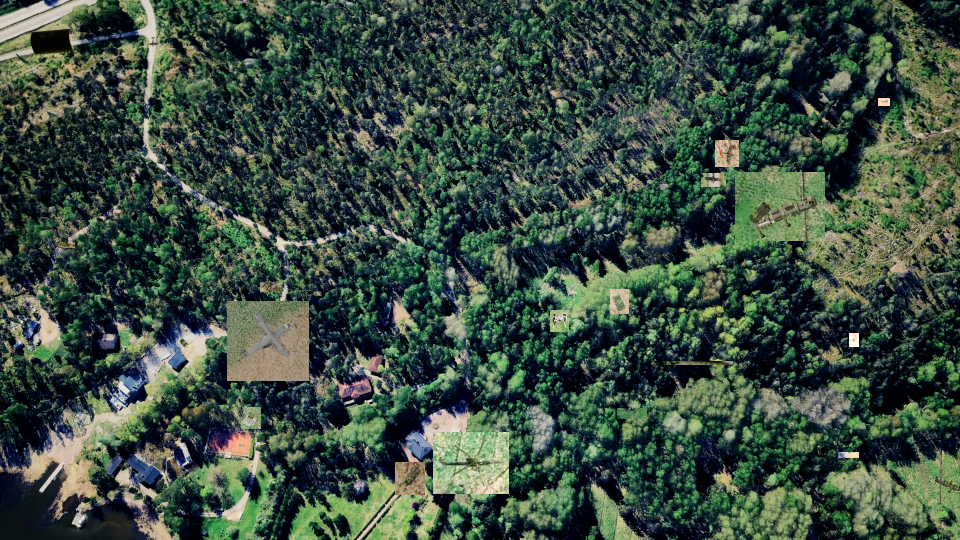condor: (227, 301, 309, 381)
hangar: (651, 361, 733, 365)
helicopter: (433, 432, 509, 494)
jammer: (610, 289, 629, 314)
jet_plane: (617, 408, 647, 419)
large_launcher: (735, 172, 825, 241)
large_tower: (260, 282, 282, 292)
medium_launcher: (58, 242, 75, 248)
medium_plane: (701, 173, 726, 187)
mine_roller: (395, 462, 425, 495)
small_launcher: (849, 333, 859, 347)
small_plane: (715, 140, 739, 167)
small_tower: (241, 407, 261, 429)
spacecraft: (550, 310, 569, 332)
ta-ta: (878, 98, 890, 106)
tank: (838, 452, 859, 458)
